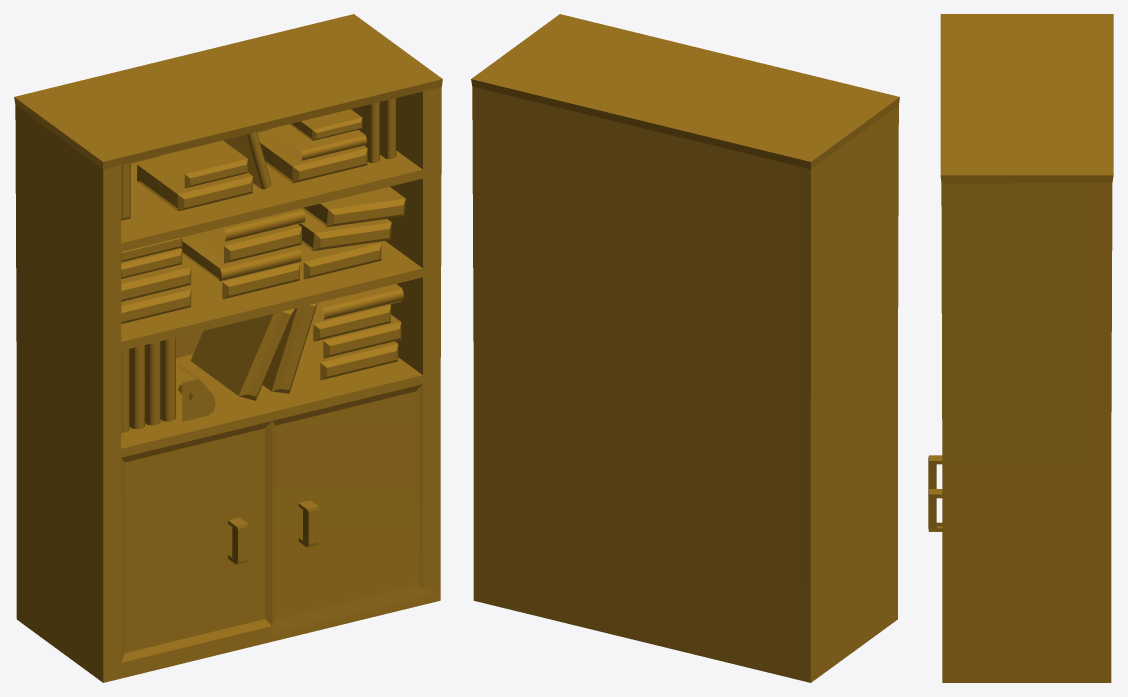
The model's file is bookshelf1.fbx.
3 renders of one model, left to right at view 1: azimuth 30°, elevation 25°; view 2: azimuth 150°, elevation 25°; view 3: azimuth 270°, elevation 25°, orthographic. The views are drawn at different scales.
Parts seen in each view (by area): view 1: bookshelf1; view 2: bookshelf1; view 3: bookshelf1.
Part boxes in pixels (x1,y1,x2,y2): bookshelf1: [14, 14, 442, 682]; bookshelf1: [471, 14, 899, 682]; bookshelf1: [928, 14, 1113, 682].
Size of the model in its own units: 133 by 195 by 64.39.
